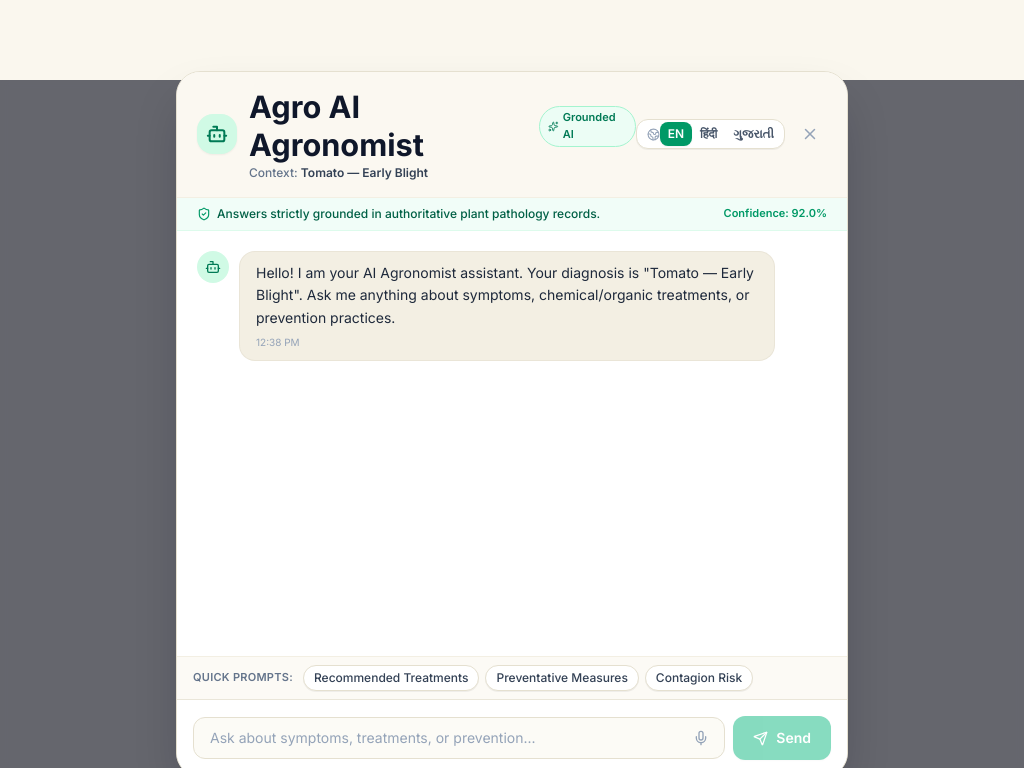
Test case: DiagnosisChatAssistant Component › reuses the same session_id across multiple questions in the same conversation
Note: Send first question
Step 1. Type "First question" into the field with placeholder "Ask about symptoms, treatments, or prevention..." → x=459, y=738, box [193,717,725,759]
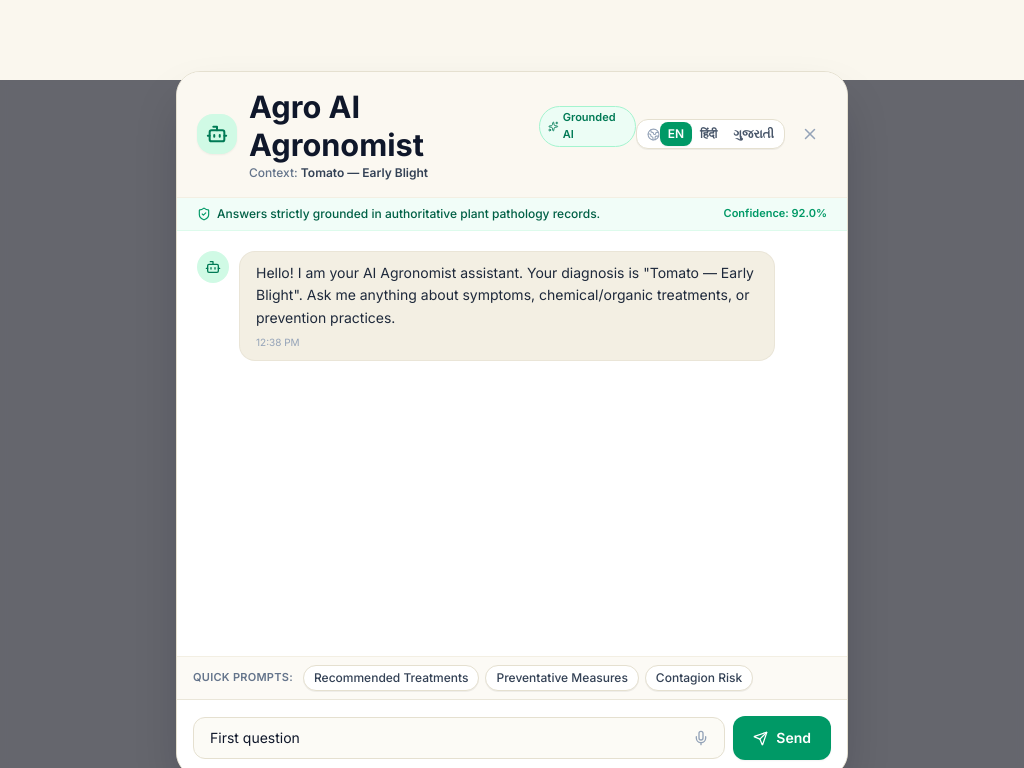
Step 2. Click the button with aria-label "send message to agro ai" → x=782, y=738, box [733,716,831,760]
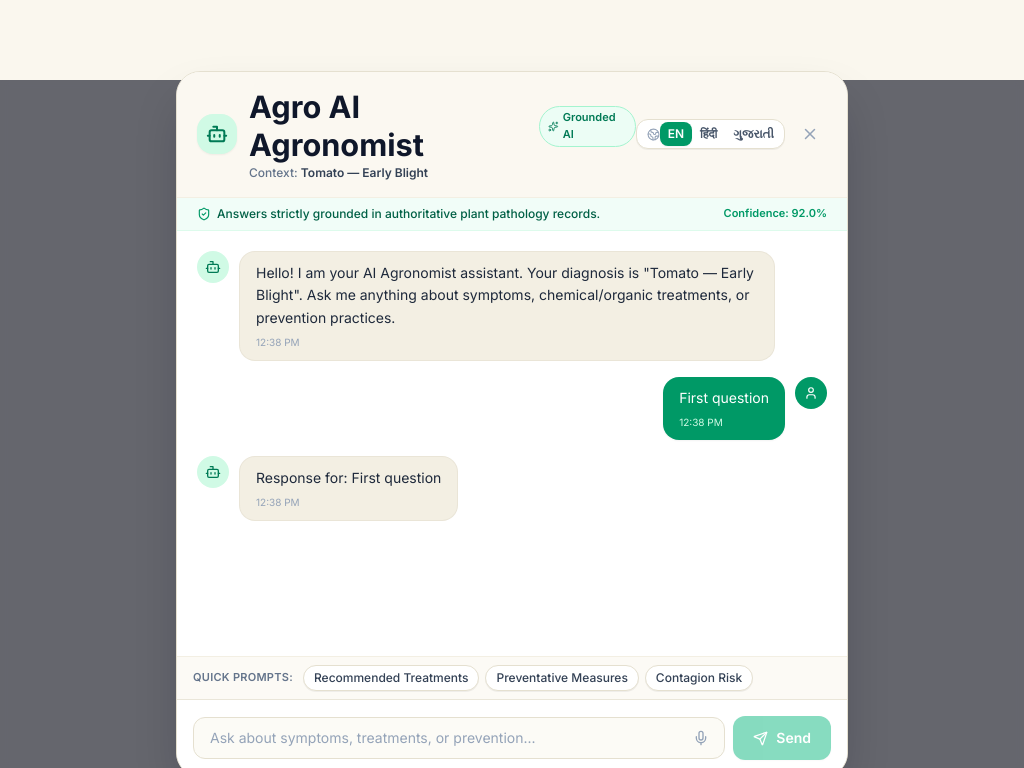
Expected: the text "Response for: First question" is shown, [256,467,441,490]
Note: Send second question
Step 3. Type "Second question" into the field with placeholder "Ask about symptoms, treatments, or prevention..." → x=459, y=738, box [193,717,725,759]
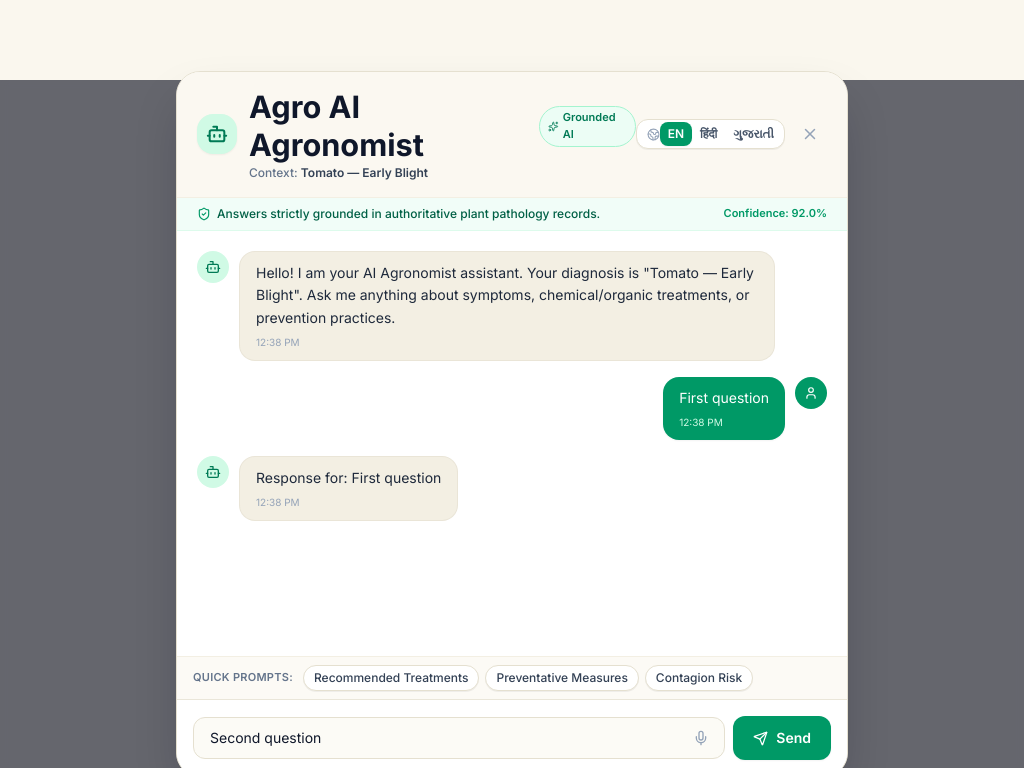
Step 4. Click the button with aria-label "send message to agro ai" → x=782, y=738, box [733,716,831,760]
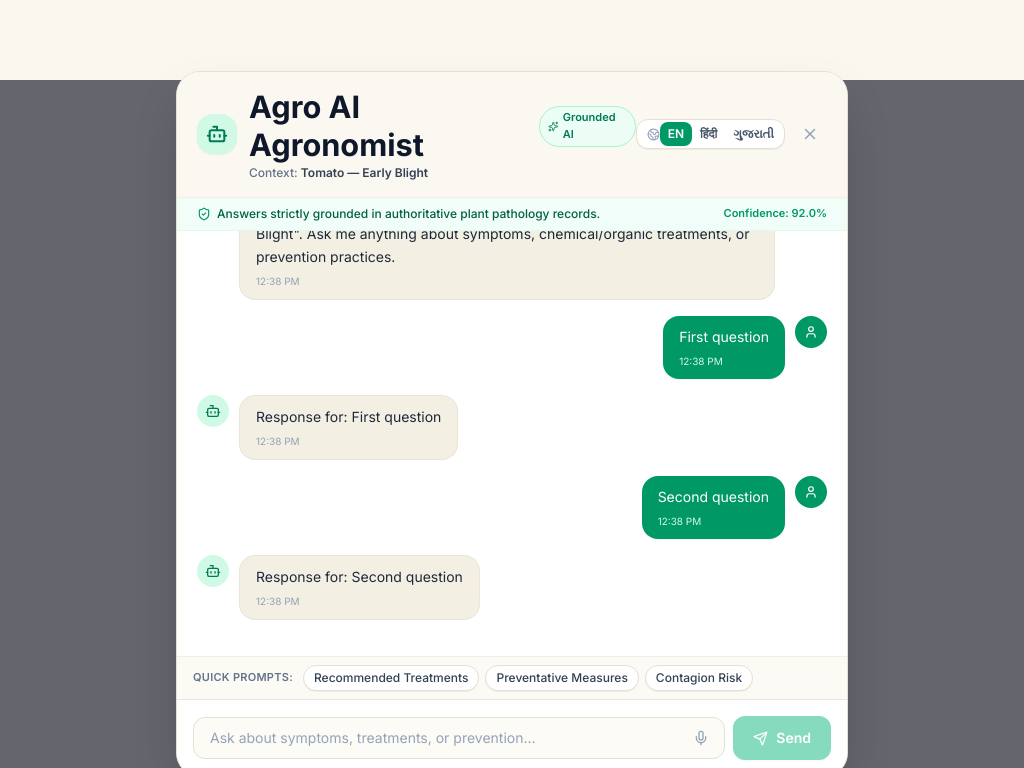
Expected: the text "Response for: Second question" is shown, [256,566,463,589]
